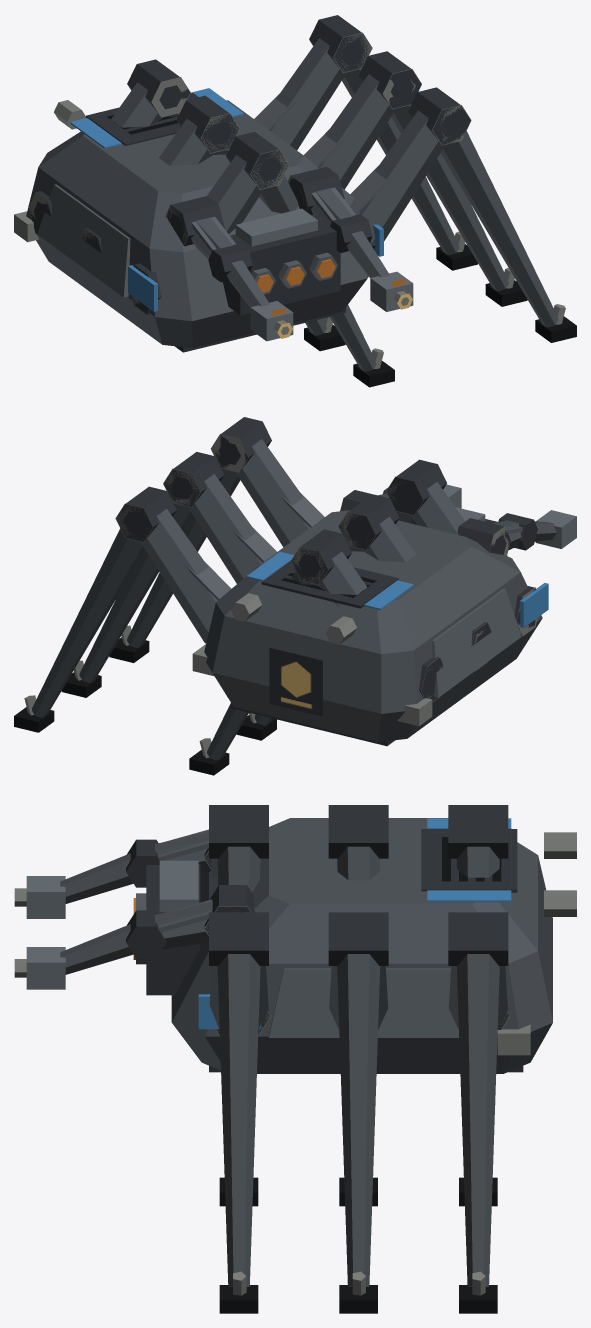
File: spider.glb
3 renders of one model, top to bottom at view 1: azimuth 30°, elevation 25°; view 2: azimuth 150°, elevation 25°; view 3: azimuth 270°, elevation 25°, orthographic. The views are drawn at different scales.
Parts seen in each view (by area): view 1: Base, KneeR3, KneeR2, HipR3, KneeR1, KneeL3, HipR1, HipR2, ForearmL, ForearmR, KneeL2, HipL3 (+5 smaller); view 2: Base, KneeR1, KneeR2, KneeR3, HipR1, HipR2, HipR3, KneeL1, KneeL2, KneeL3, ForearmL, HipL3 (+3 smaller); view 3: Base, KneeR1, KneeR2, KneeR3, ForearmR, ForearmL, KneeL3, KneeL2, KneeL1, ArmR, ArmL, HipR3 (+2 smaller).
Part boxes in pixels (x1,y1,x2,y2): Base: (14, 88, 383, 352); KneeR3: (408, 87, 576, 342); KneeR2: (358, 51, 527, 306); HipR3: (350, 110, 445, 248); KneeR1: (309, 15, 477, 270); KneeL3: (226, 132, 394, 387); HipR1: (254, 38, 346, 150); HipR2: (303, 74, 395, 189); ForearmL: (208, 243, 293, 341); ForearmR: (330, 214, 413, 311); KneeL2: (176, 95, 345, 351); HipL3: (127, 154, 263, 315); Base: (192, 507, 548, 746); KneeR1: (14, 486, 176, 732); KneeR2: (61, 452, 224, 697); KneeR3: (109, 417, 271, 662); HipR1: (140, 509, 231, 643); HipR2: (188, 474, 276, 583); HipR3: (236, 439, 324, 547); KneeL1: (189, 529, 351, 775); KneeL2: (236, 494, 399, 740); KneeL3: (386, 459, 446, 524); ForearmL: (498, 510, 576, 550); HipL3: (411, 482, 537, 636); Base: (133, 818, 576, 1073); KneeR1: (448, 912, 508, 1313); KneeR2: (328, 912, 388, 1313); KneeR3: (209, 912, 268, 1313); ForearmR: (14, 910, 166, 989); ForearmL: (14, 839, 159, 918); KneeL3: (209, 805, 268, 1206); KneeL2: (328, 805, 388, 1206); KneeL1: (448, 805, 508, 1206); ArmR: (155, 885, 254, 949); ArmL: (155, 829, 211, 872); HipR3: (209, 966, 270, 1036).
Size of the model in its own units: 40.6 by 23.6 by 37.65.
1 material, 1 textured.
